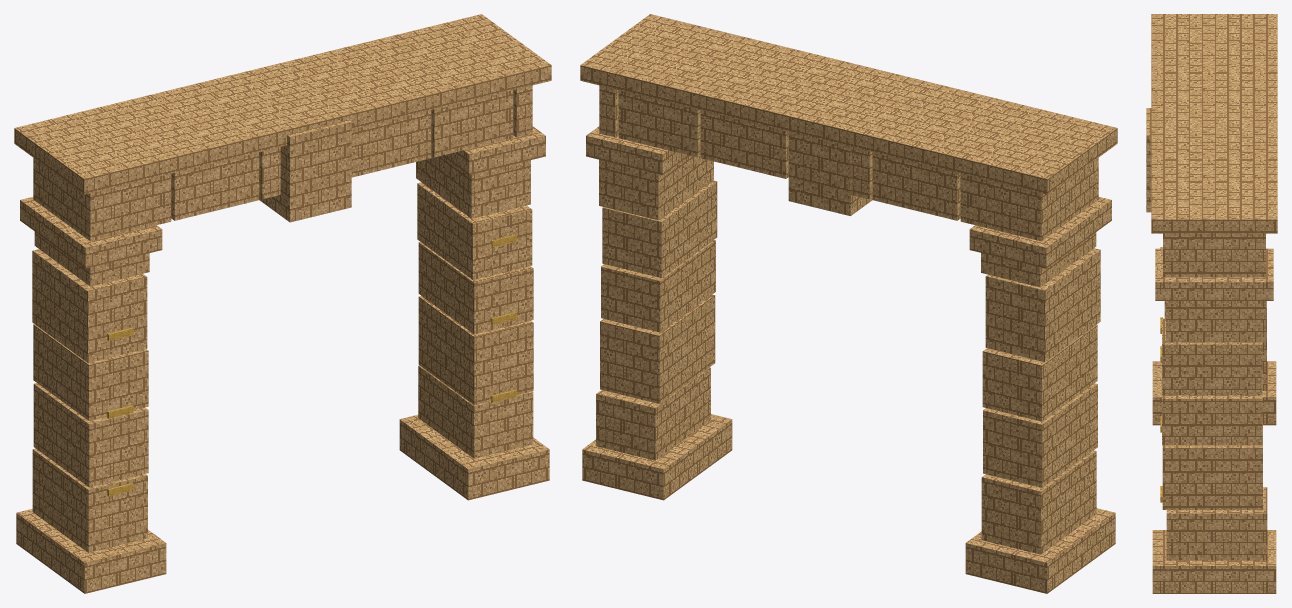
File: wall_frame_sand.glb
3 views of the same model, side by side, from view 1: azimuth 30°, elevation 25°; view 2: azimuth 150°, elevation 25°; view 3: azimuth 270°, elevation 25° (orthographic). The views are drawn at different scales.
Visible parts, largest first — view 1: Body.002; view 2: Body.002; view 3: Body.002.
Boxes of the visible parts, <box> form: Body.002: <box>14,14,551,593</box>; Body.002: <box>580,14,1117,593</box>; Body.002: <box>1146,14,1277,593</box>.
Size of the model in its own units: 3.78 by 3.21 by 1.02.
Materials: 3 (2 with a texture image).
